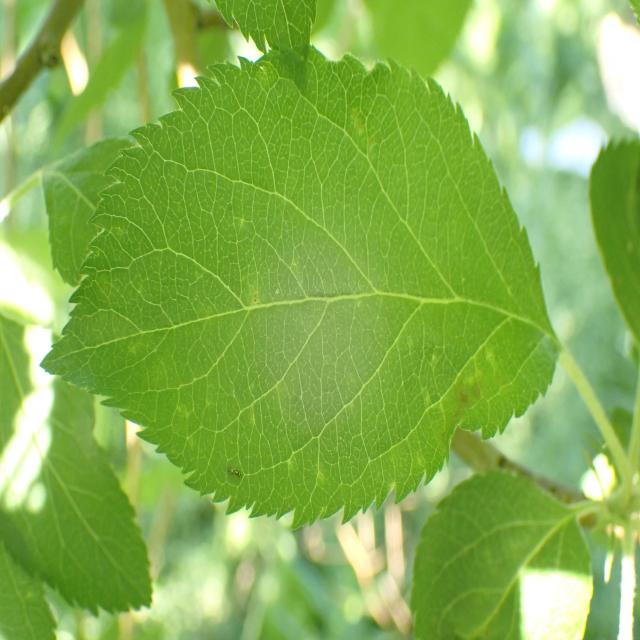scab: (91, 143, 542, 472)
